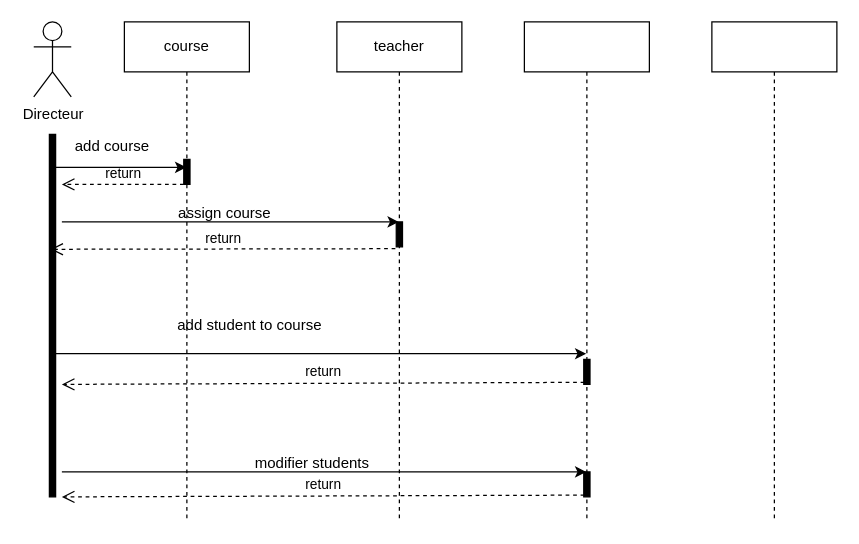
Some shapes in this 859 by 544 pixel diagram are drawn without their labels. The box of each missing label's shape, as (x1, y1, x2, y2) in pixels:
note: (711, 21, 837, 522)
student: (523, 21, 649, 522)
